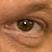eye: (17, 20, 34, 32)
